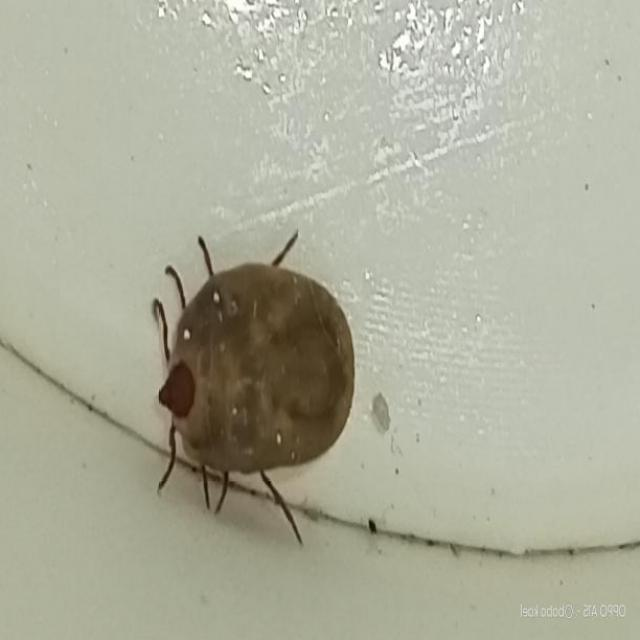Rhipicephalus Sanguineus-F-Fed: (153, 228, 354, 547)
